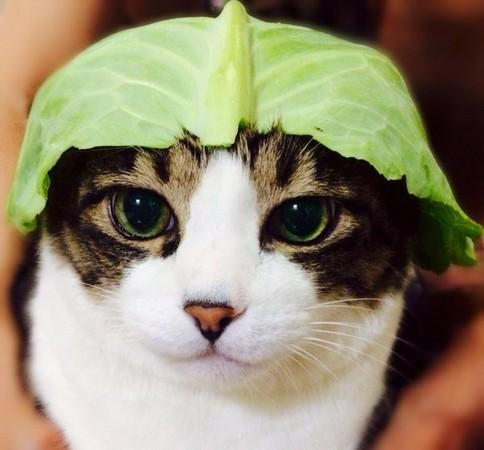cat: (34, 91, 455, 378)
